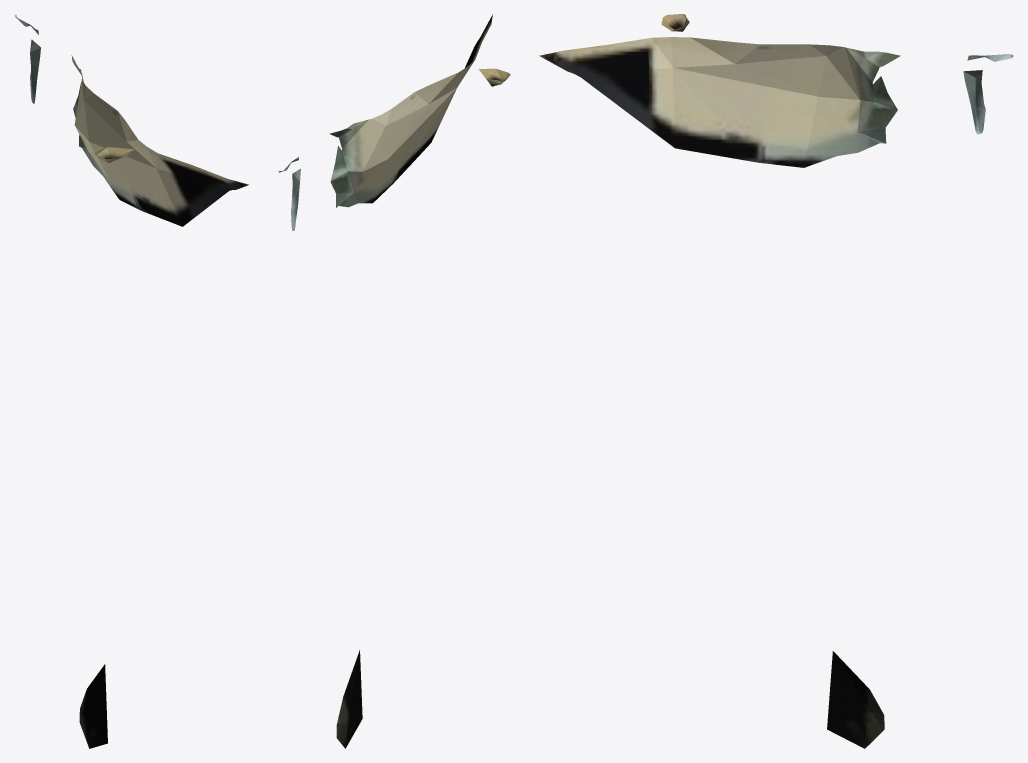
3 renders of one model, left to right at view 1: azimuth 30°, elevation 25°; view 2: azimuth 150°, elevation 25°; view 3: azimuth 270°, elevation 25°, orthographic. The views are drawn at different scales.
Size of the model in its own units: 0.756 by 5.84 by 3.63.
1 material, 1 textured.
